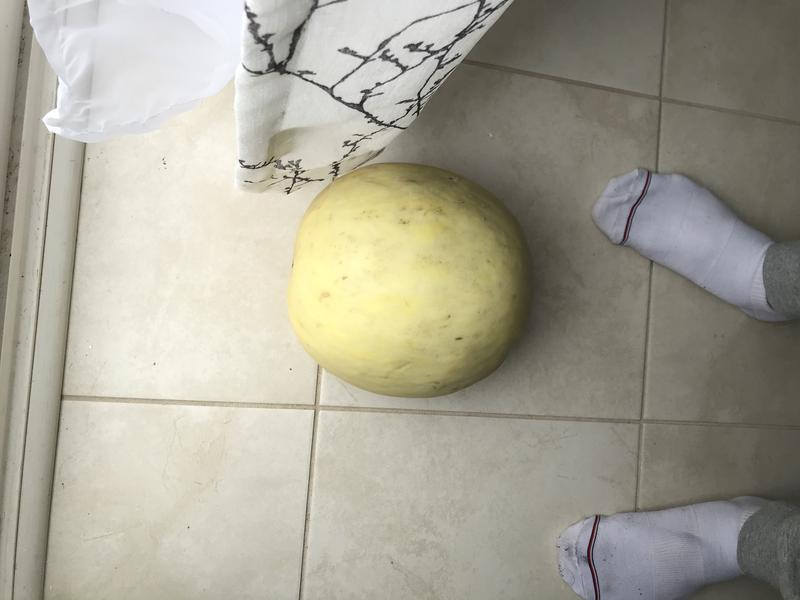honeydew: (278, 156, 550, 405)
